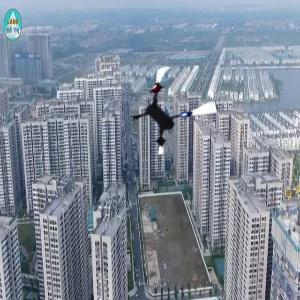drone: (126, 64, 222, 160)
